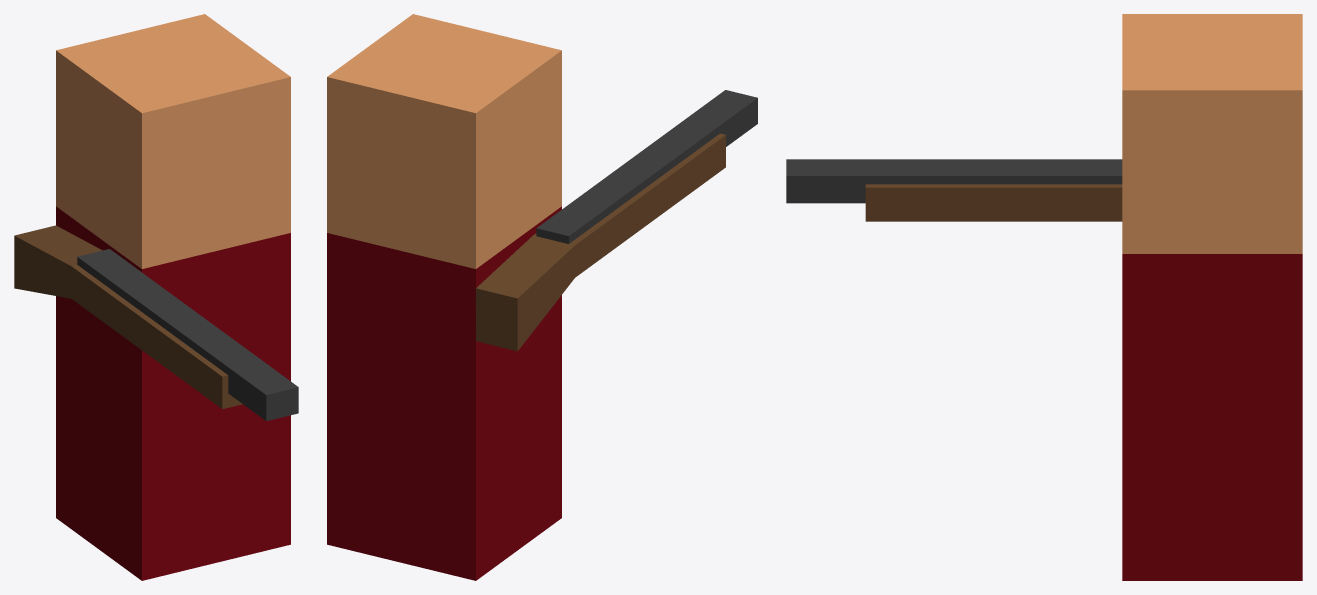
File: unit-soldier-red.glb
3 views of the same model, side by side, from view 1: azimuth 30°, elevation 25°; view 2: azimuth 150°, elevation 25°; view 3: azimuth 270°, elevation 25° (orthographic). The views are drawn at different scales.
Parts seen in each view (by area): view 1: Cube, Cube.001, Cube.003, Cube.002; view 2: Cube, Cube.001, Cube.003, Cube.002; view 3: Cube, Cube.001, Cube.002, Cube.003.
Part boxes in pixels (bbox=[...]): Cube: bbox=[56, 206, 290, 580]; Cube.001: bbox=[56, 14, 290, 268]; Cube.003: bbox=[14, 225, 242, 409]; Cube.002: bbox=[77, 249, 298, 421]; Cube: bbox=[327, 206, 561, 580]; Cube.001: bbox=[327, 14, 561, 268]; Cube.003: bbox=[473, 133, 725, 351]; Cube.002: bbox=[536, 90, 757, 243]; Cube: bbox=[1122, 254, 1302, 580]; Cube.001: bbox=[1122, 14, 1302, 253]; Cube.002: bbox=[786, 159, 1122, 203]; Cube.003: bbox=[865, 184, 1122, 221].
Bounding box in the file's own units: 2.56 × 6 × 5.72.
